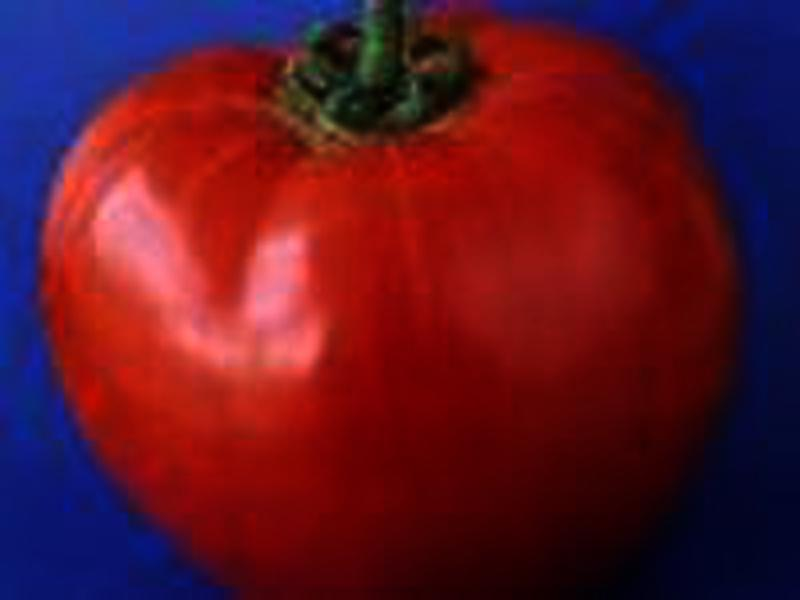Tomato: (40, 5, 744, 595)
